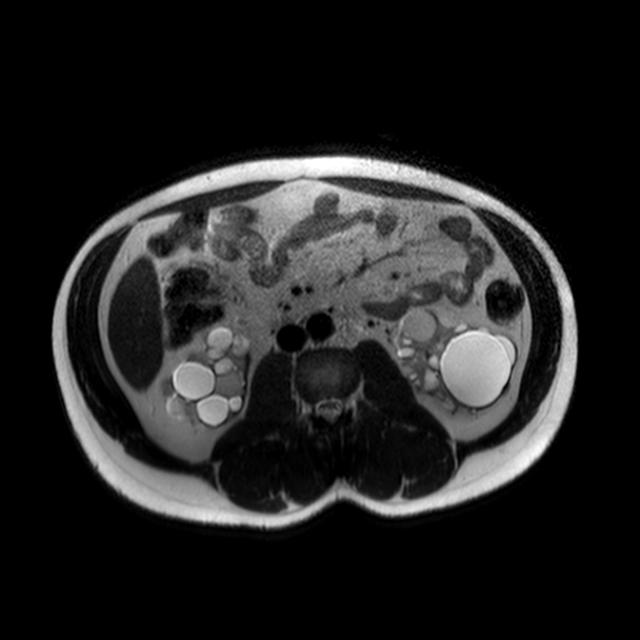sag: (159, 323, 253, 430)
sol: (395, 307, 519, 421)
